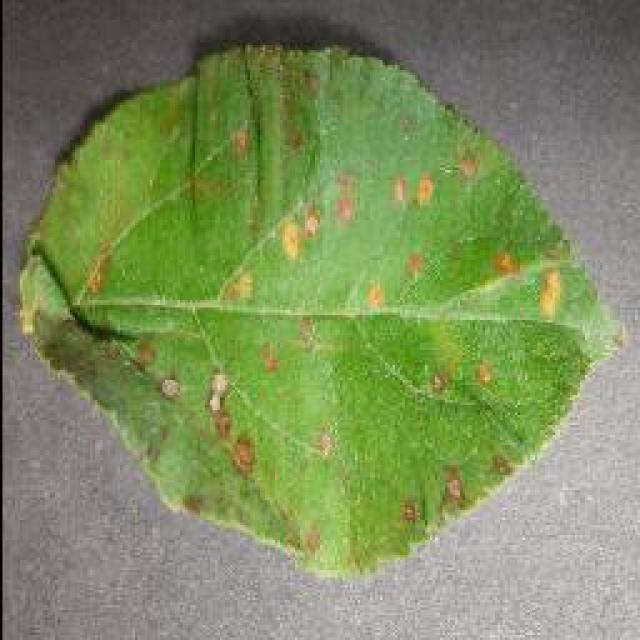apple rust disease: (17, 38, 625, 580)
